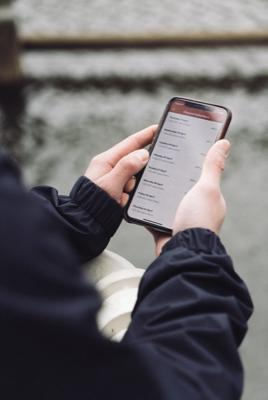Mobile Phone: (121, 94, 232, 235)
